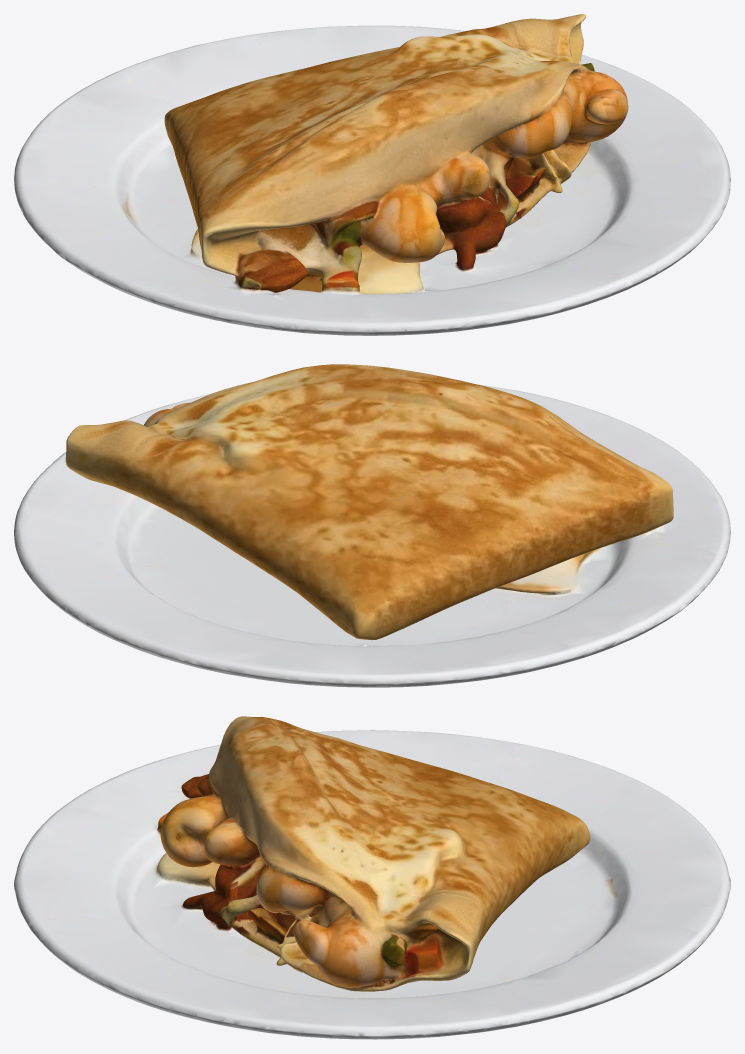
File: crepa-camaron-optimizada.glb
The picture shows the model from 3 angles, top to bottom: view 1: azimuth 30°, elevation 25°; view 2: azimuth 150°, elevation 25°; view 3: azimuth 270°, elevation 25°; orthographic projection.
Size of the model in its own units: 1.9 by 0.4713 by 1.9.
1 material, 1 textured.
